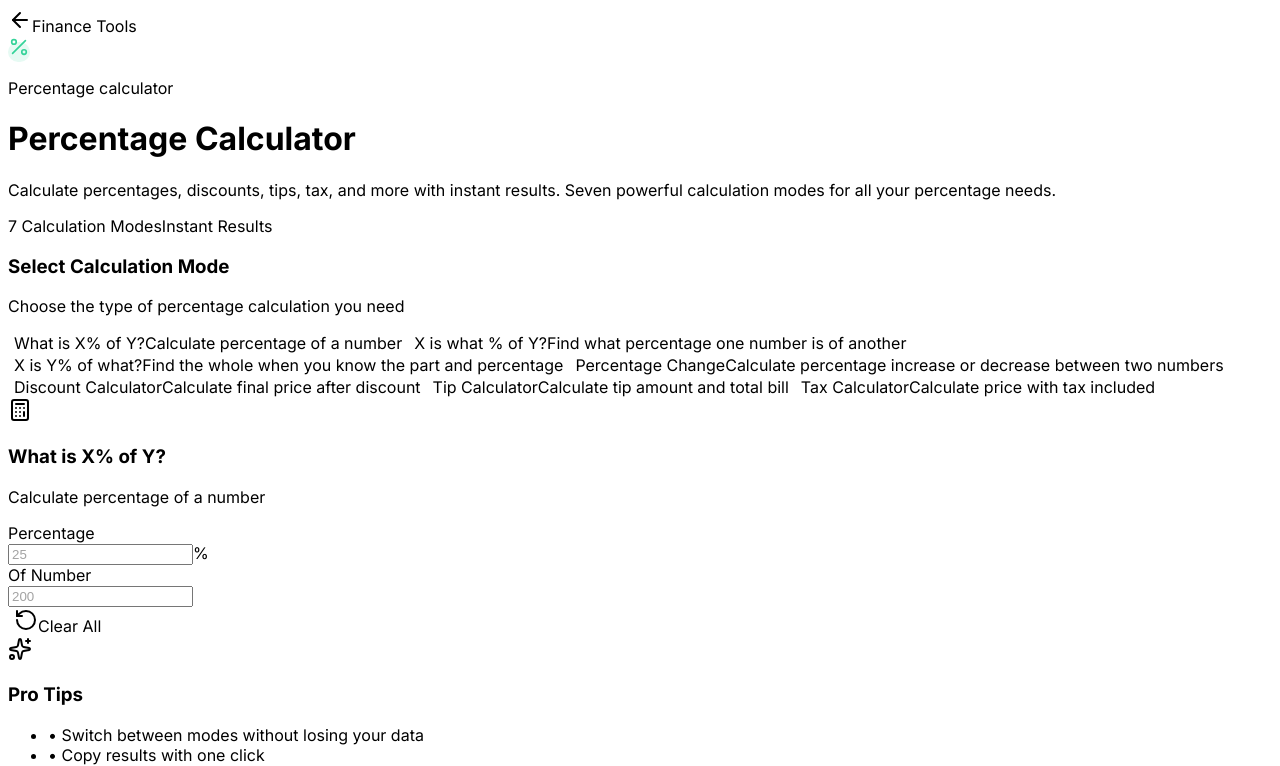
Scenario: Percentage Calculator Page › Percent Of Calculation › handles decimal percentages
Type "12.5" into the field labelled "Percentage".
click(100, 554); type("12.5")  # box [8,544,193,565]
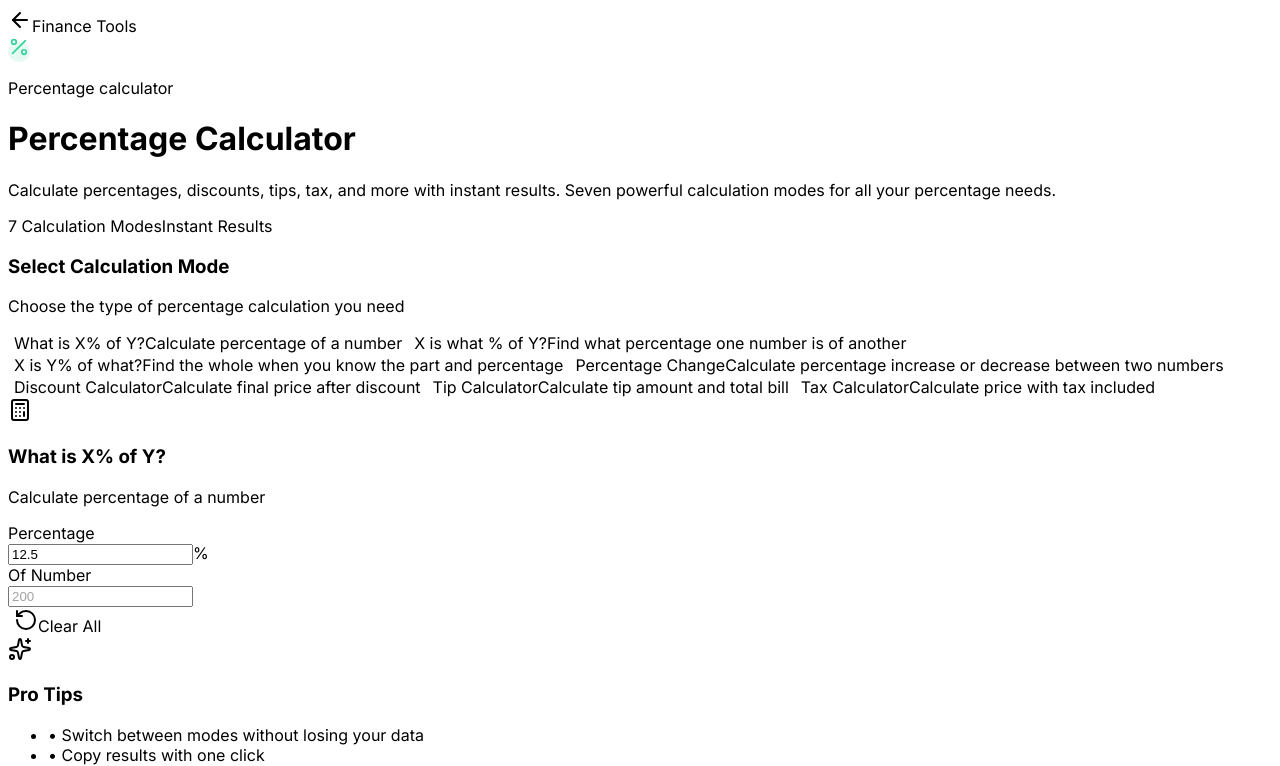
Type "80" into the field labelled "Of Number".
click(100, 596); type("80")  # box [8,586,193,607]
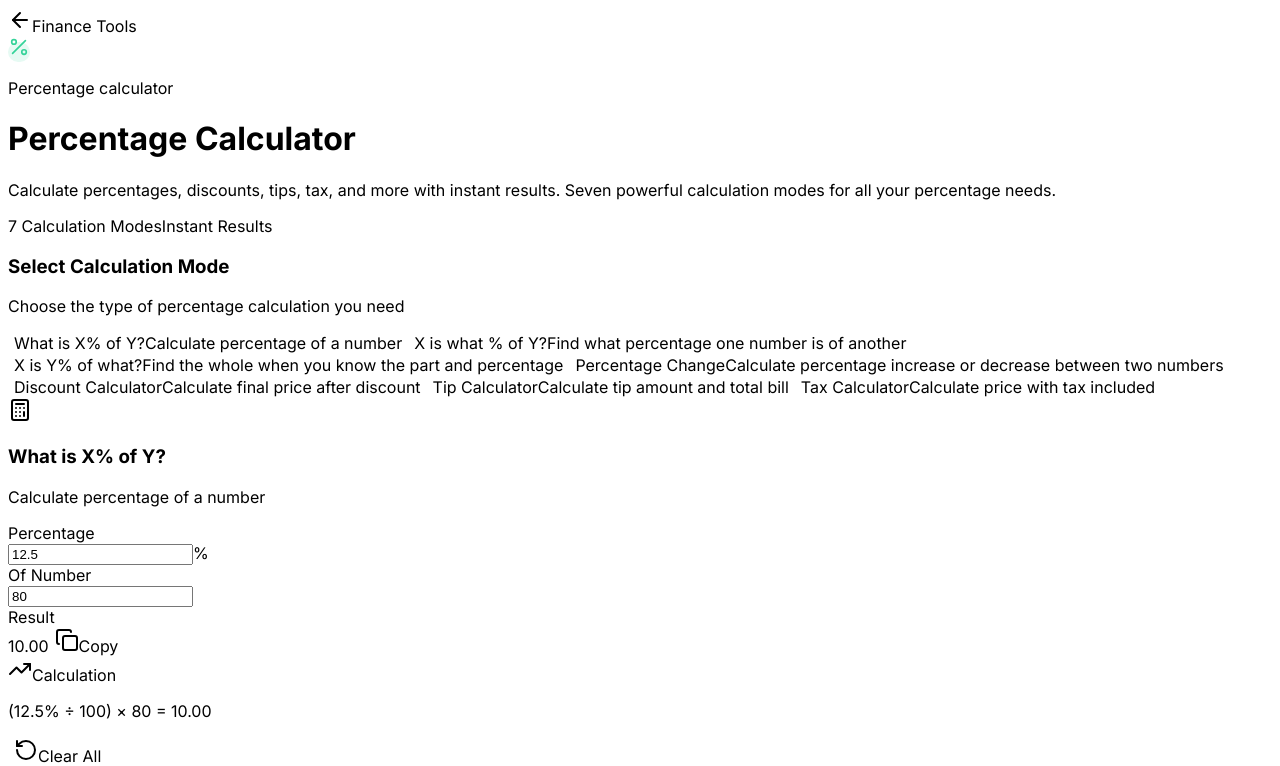
Expected: the text "10.00" is shown, [8,636,49,656]
